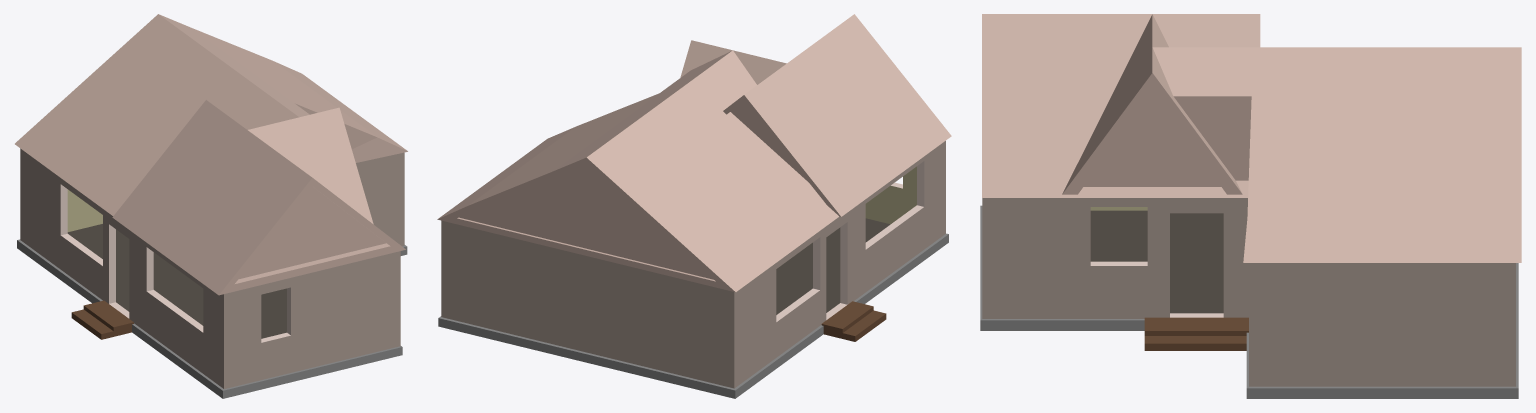
File: HouseOutter.fbx
3 views of the same model, side by side, from view 1: azimuth 30°, elevation 25°; view 2: azimuth 150°, elevation 25°; view 3: azimuth 270°, elevation 25° (orthographic). The views are drawn at different scales.
Visible parts, largest first — view 1: Cube.007, Cube.008, Cube.001, Cube, Floor, Cube.009, Cube.004, Stairs.001, Cube.002, Cube.005, Cube.003; view 2: Cube.007, Cube.002, Cube.008, Cube, Floor, Cube.001, Cube.009, Stairs.001; view 3: Cube.007, Cube.003, Cube.008, Cube.005, Floor, Cube.009, Cube.014, Stairs, Cube.002.
Part boxes in pixels (box(x1,y1,x2,y2)): Cube.007: box(15, 14, 407, 215); Cube.008: box(112, 100, 405, 295); Cube.001: box(220, 253, 393, 388); Cube: box(20, 148, 219, 385); Floor: box(17, 224, 407, 398); Cube.009: box(248, 107, 373, 224); Cube.004: box(356, 154, 397, 242); Stairs.001: box(71, 300, 133, 339); Cube.002: box(67, 189, 102, 231); Cube.005: box(393, 251, 400, 347); Cube.003: box(397, 152, 404, 246); Cube.007: box(437, 50, 838, 292); Cube.002: box(441, 220, 726, 386); Cube.008: box(723, 14, 951, 216); Cube: box(727, 144, 941, 388); Floor: box(438, 218, 948, 398); Cube.001: box(865, 141, 945, 236); Cube.009: box(680, 40, 786, 84); Stairs.001: box(821, 301, 886, 341); Cube.007: box(1152, 47, 1521, 262); Cube.003: box(1249, 263, 1505, 386); Cube.008: box(982, 14, 1260, 197); Cube.005: box(982, 198, 1248, 318); Floor: box(980, 205, 1518, 398); Cube.009: box(1062, 14, 1242, 194); Cube.014: box(1083, 92, 1220, 186); Stairs: box(1144, 317, 1248, 350); Cube.002: box(1505, 263, 1515, 386).
Size of the model in its own units: 1015 by 897 by 538.
